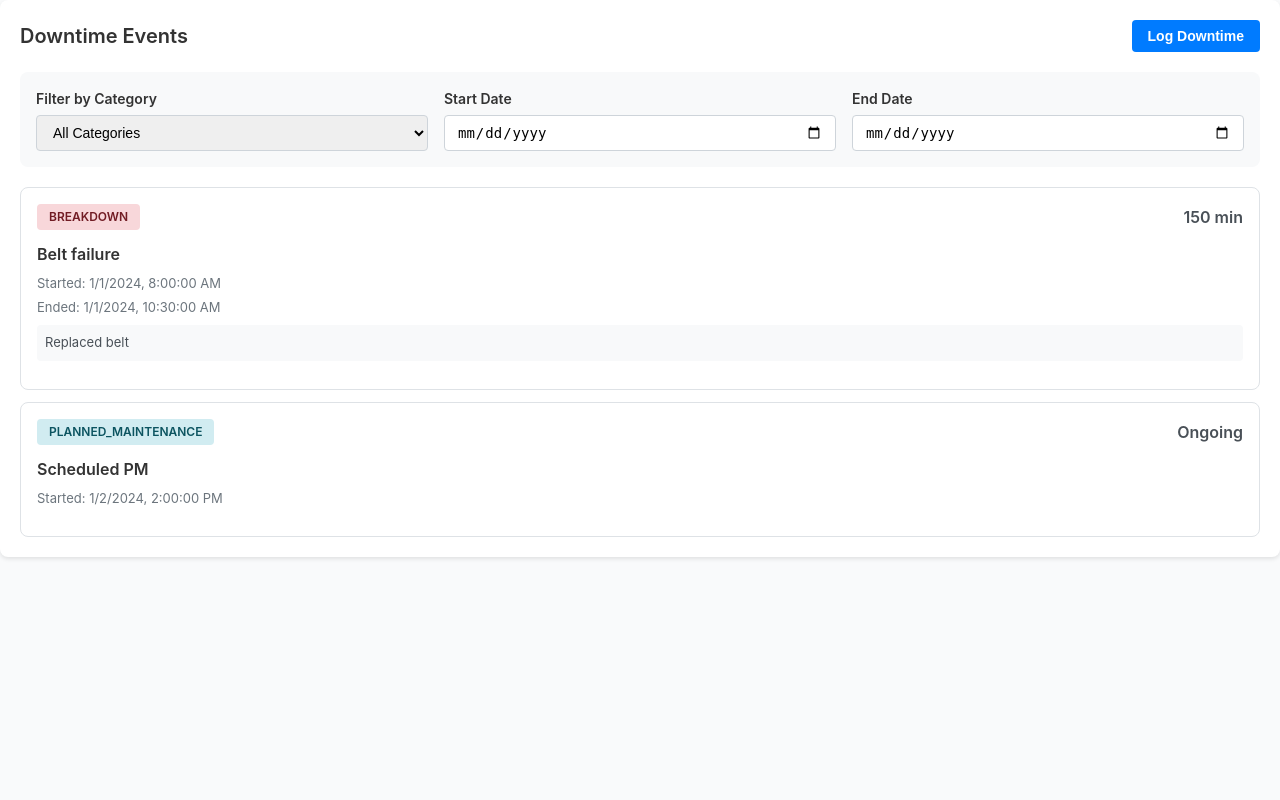
Scenario: DowntimeTracker › should filter events by category
Select "Breakdown" in the dropdown labelled "Filter by Category". click: (232, 133)
box: left=36, top=115, right=428, bottom=151
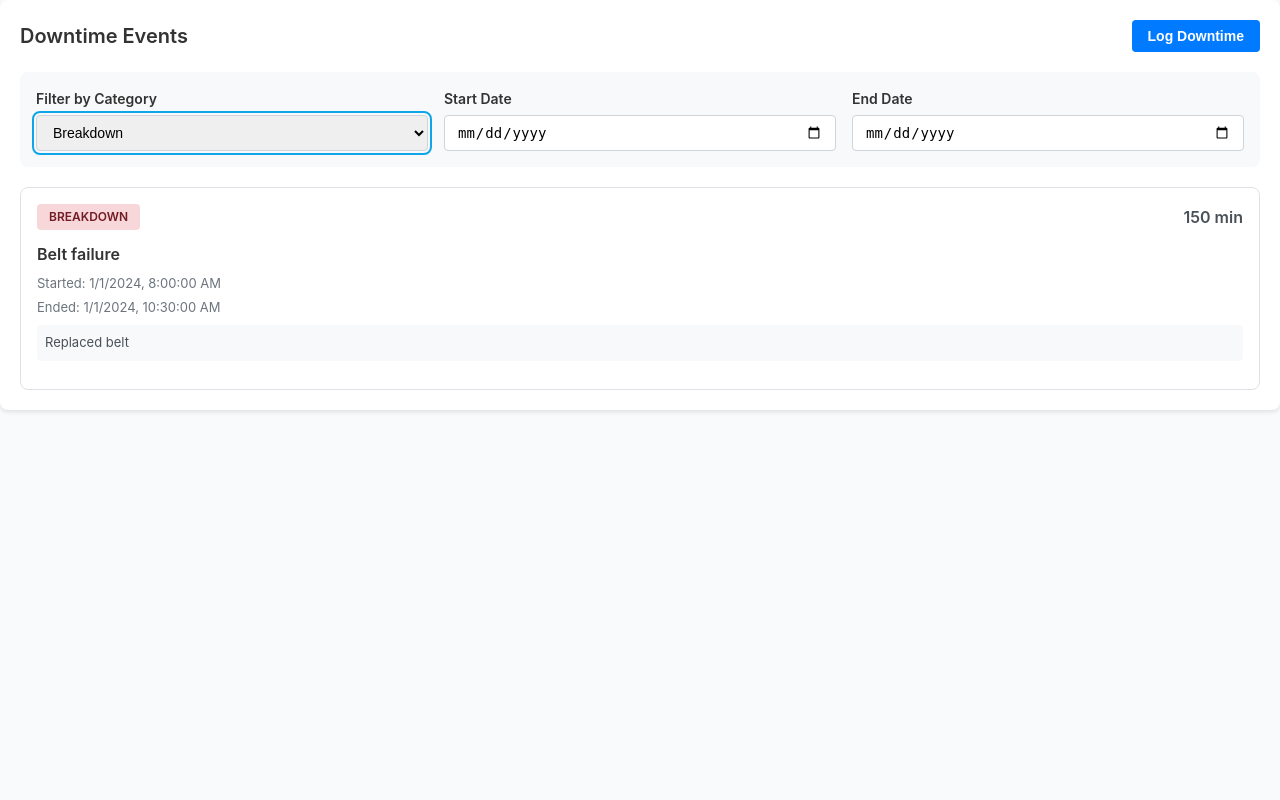
Check: the text "Belt failure" is shown, box left=37, top=244, right=120, bottom=264
Check: the text "Scheduled PM" is gone
